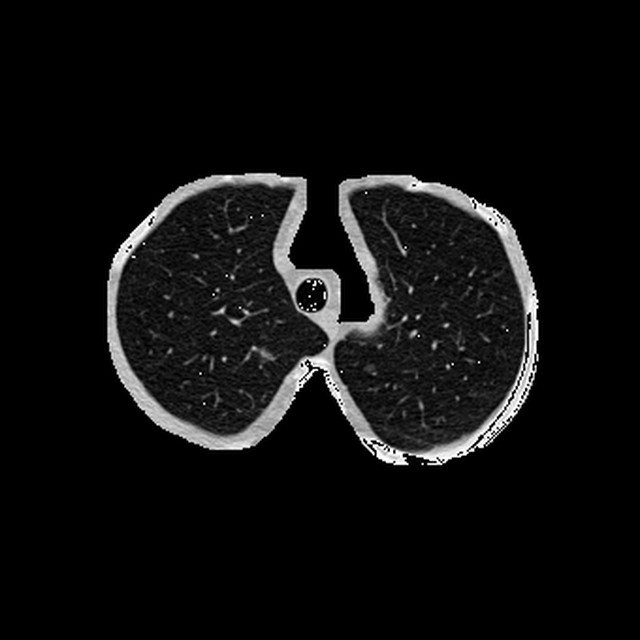PN: (365, 363, 373, 371)
